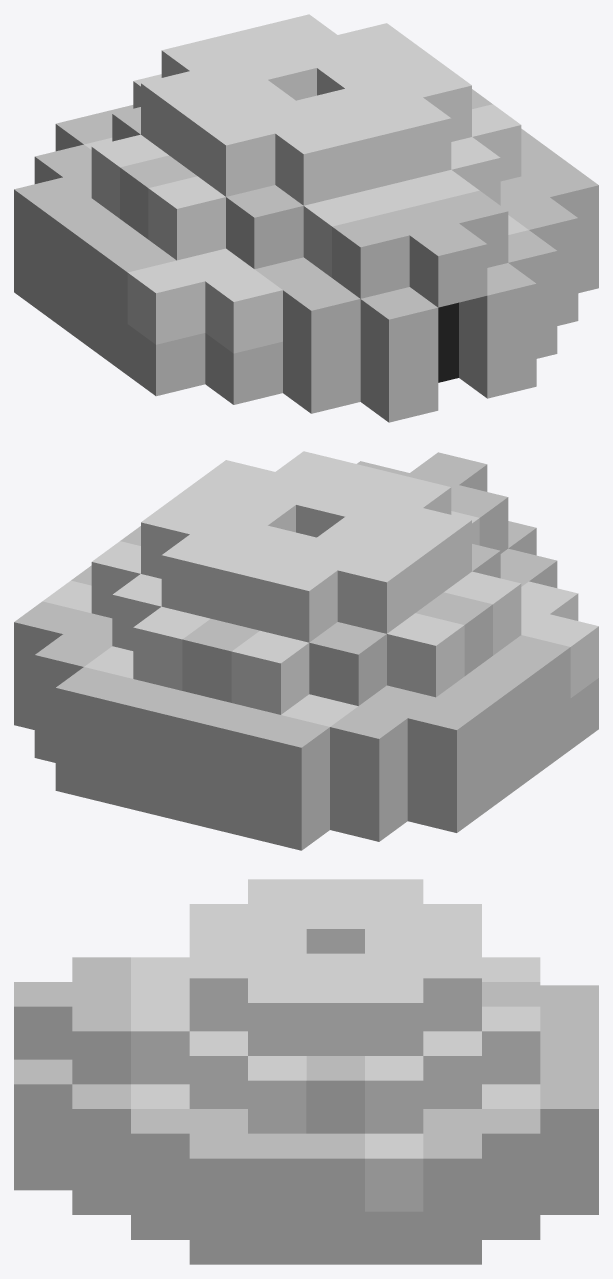
Rendered from overworld-7-props_igloo.obj.
3 renders of one model, top to bottom at view 1: azimuth 30°, elevation 25°; view 2: azimuth 150°, elevation 25°; view 3: azimuth 270°, elevation 25°, orthographic. The views are drawn at different scales.
Visible parts, largest first — view 1: props_igloo; view 2: props_igloo; view 3: props_igloo.
Part boxes in pixels (<box>): props_igloo: <box>14,14,598,422</box>; props_igloo: <box>14,451,598,850</box>; props_igloo: <box>14,879,598,1264</box>.
Bounding box in the file's own units: 0.9 × 0.4 × 1.
Materials: 1 (1 with a texture image).
